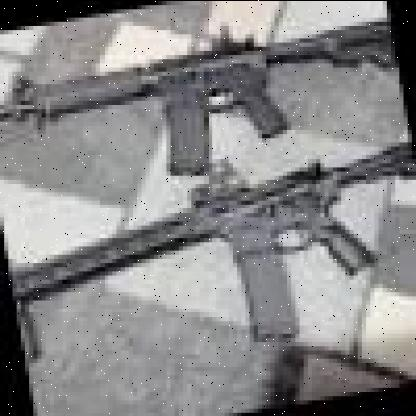rifle: (0, 138, 416, 370), (0, 4, 404, 208)
